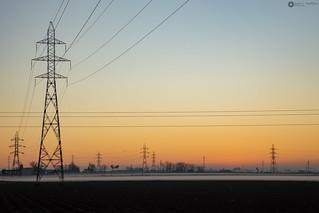power_tower: (35, 16, 74, 184), (9, 126, 29, 172), (266, 142, 281, 174), (140, 142, 150, 174)
